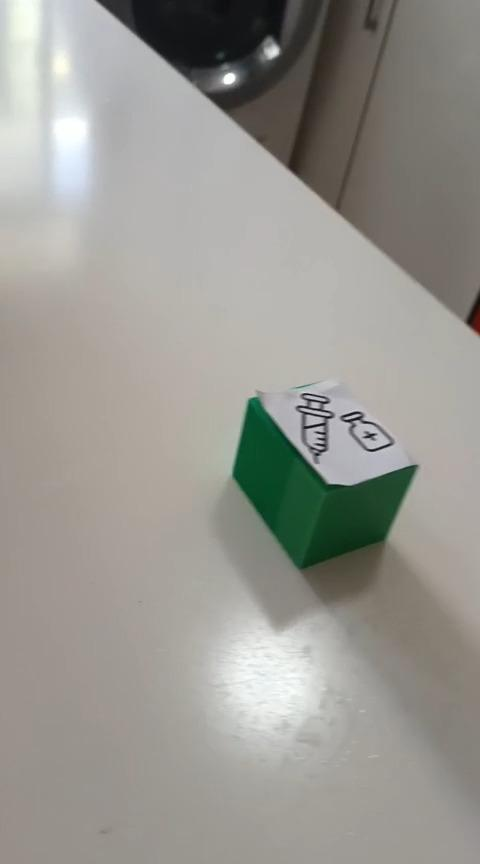antiseptic cream: (230, 375, 420, 570)
